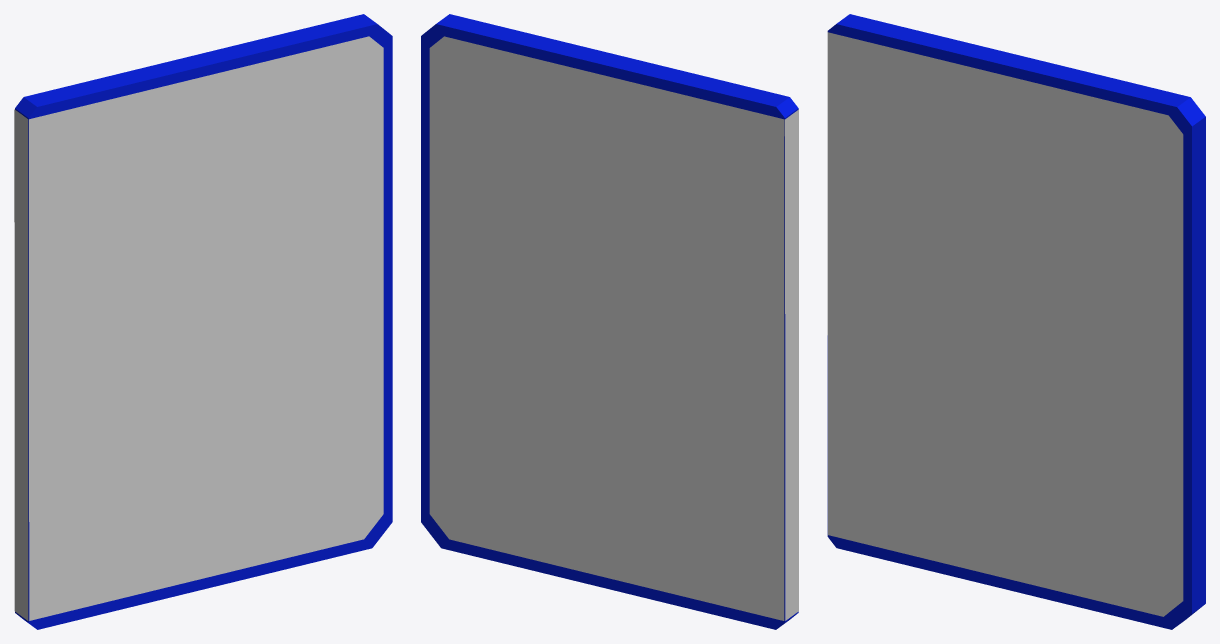
The model's file is SwitchCase3.glb.
The picture shows the model from 3 angles, left to right: view 1: azimuth 30°, elevation 25°; view 2: azimuth 150°, elevation 25°; view 3: azimuth 330°, elevation 25°; orthographic projection.
Visible parts, largest first — view 1: Front, Box, Spine; view 2: Back, Box, Spine; view 3: Front, Box.
Boxes of the visible parts, bbox=[...] form: Front: bbox=[29, 36, 383, 620]; Box: bbox=[15, 14, 392, 629]; Spine: bbox=[14, 109, 28, 620]; Back: bbox=[429, 36, 784, 620]; Box: bbox=[421, 14, 798, 629]; Spine: bbox=[785, 109, 798, 620]; Front: bbox=[827, 32, 1183, 616]; Box: bbox=[827, 14, 1205, 629].
Size of the model in its own units: 3.9 by 5.35 by 0.259.
